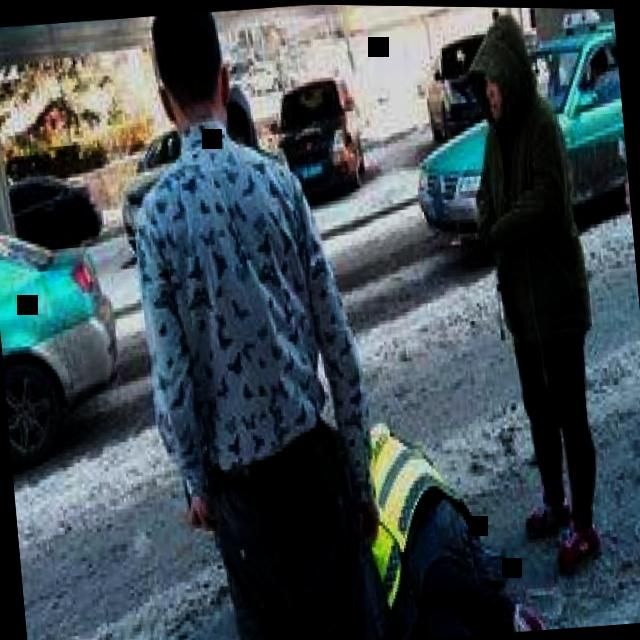Fall-Detected: (342, 386, 552, 640)
